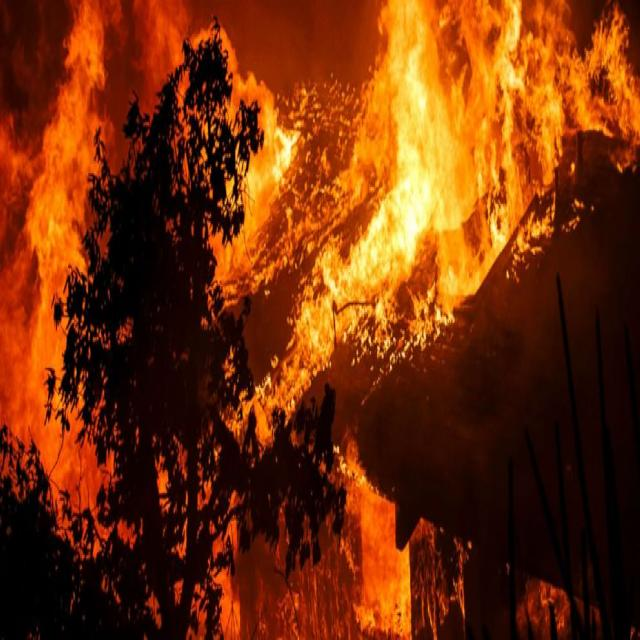fire: (392, 1, 554, 211), (312, 241, 429, 356)
